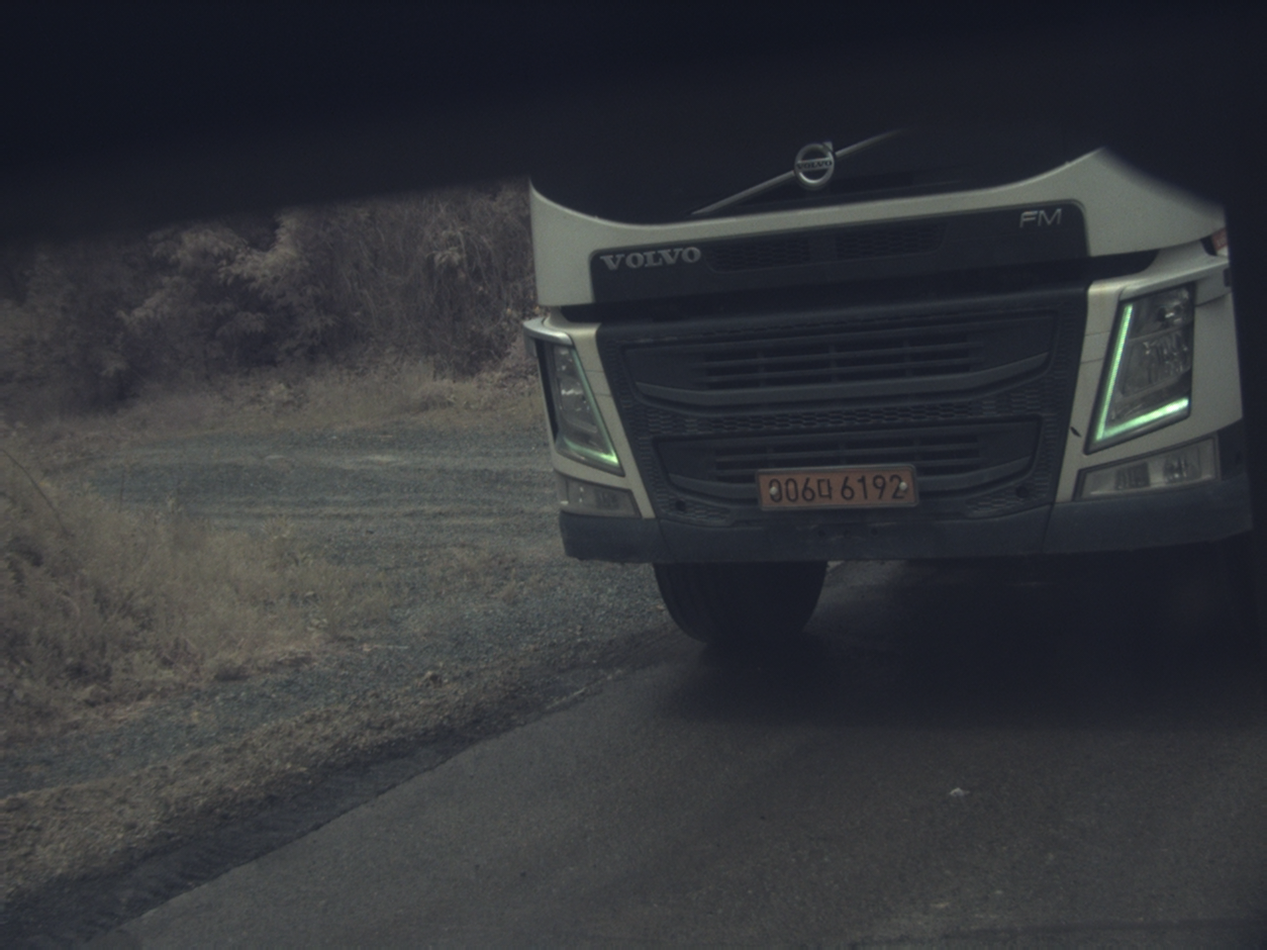license_plate: (757, 468, 918, 508)
truck: (527, 124, 1250, 644)
